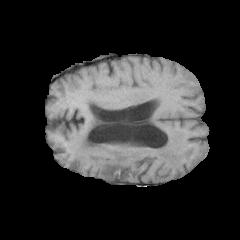glioma: (67, 99, 184, 180)
